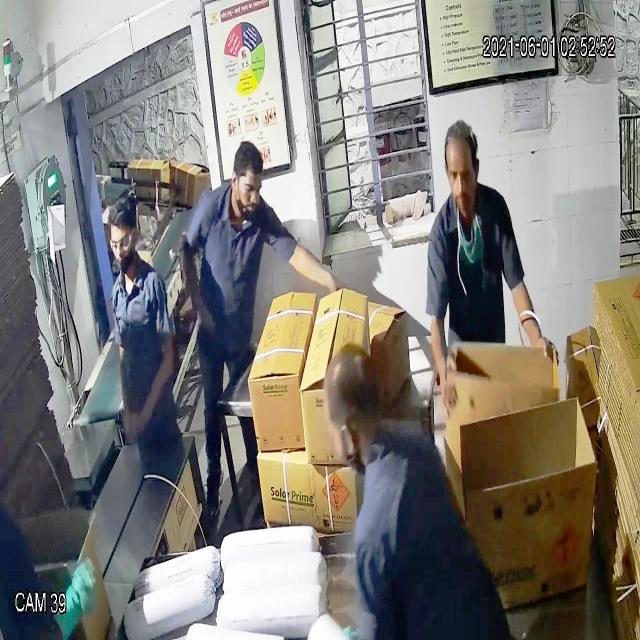glasses: (106, 225, 140, 259)
no-glass: (439, 154, 481, 189)
